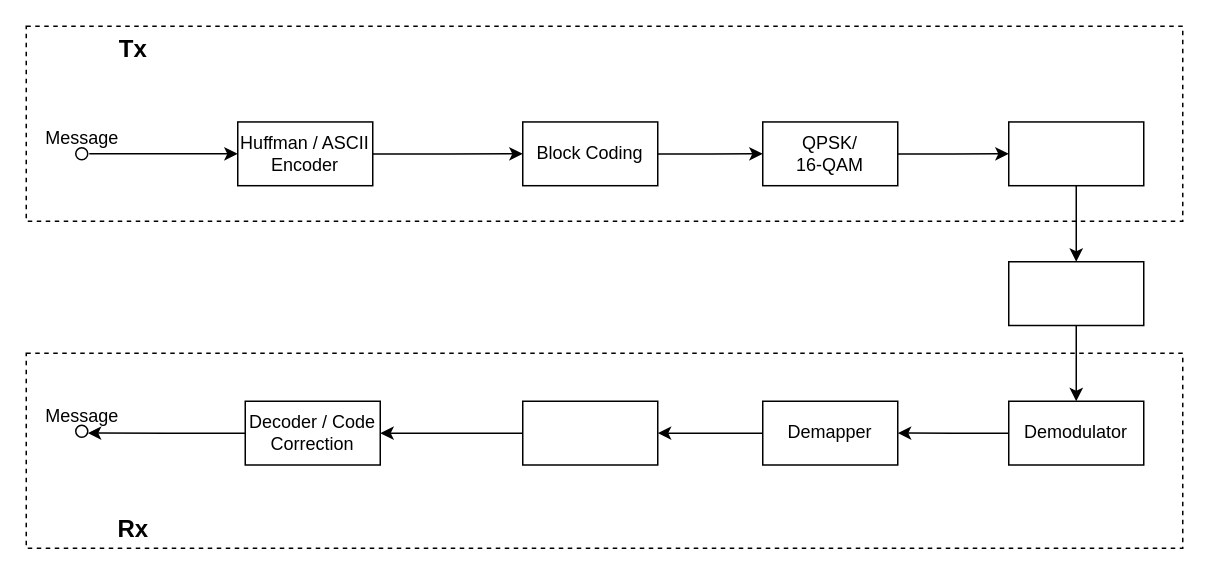
The diagram is 1209 pixels wide and 578 high, and some of its shapes have lost their labels. Each missing label, with the box of its shape:
AWNG / Rayleigh: (1007, 260, 1144, 326)
Block Decoding: (521, 400, 658, 465)
OFDM: (1007, 120, 1144, 186)
